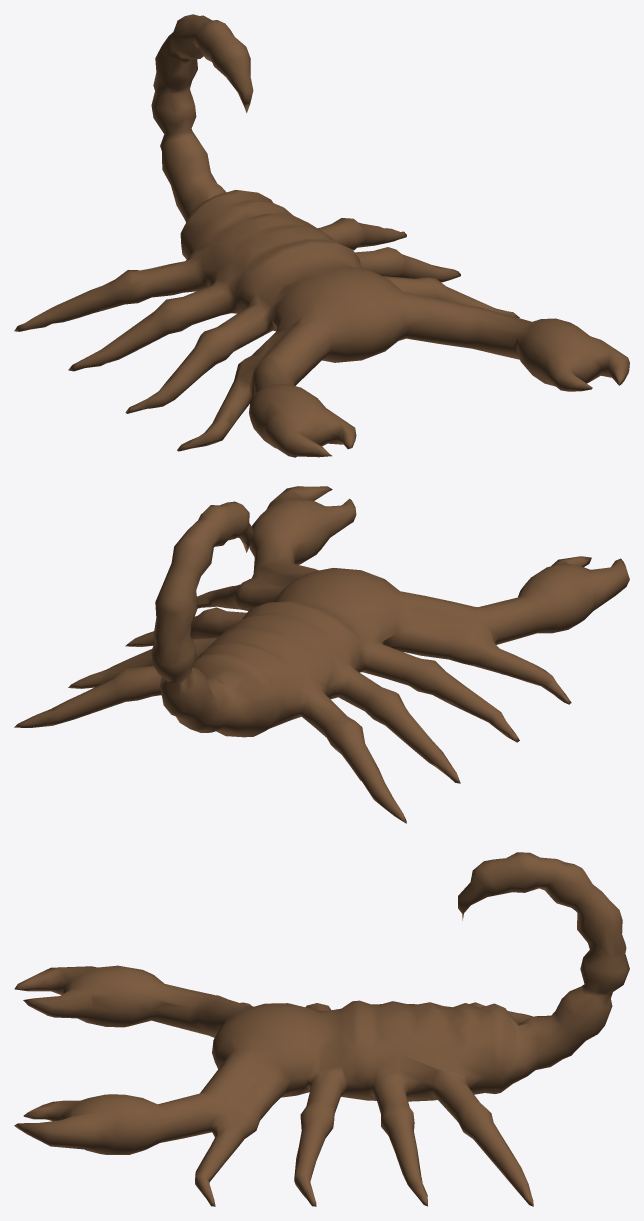
File: NEW_RECOVERY_009_LOD1.fbx
The picture shows the model from 3 angles, top to bottom: view 1: azimuth 30°, elevation 25°; view 2: azimuth 150°, elevation 25°; view 3: azimuth 270°, elevation 25°; orthographic projection. The views are drawn at different scales.
Visible parts, largest first — view 1: Scorpion_LOD1; view 2: Scorpion_LOD1; view 3: Scorpion_LOD1.
Boxes of the visible parts, <box> form: Scorpion_LOD1: <box>14,14,629,457</box>; Scorpion_LOD1: <box>14,486,629,823</box>; Scorpion_LOD1: <box>14,852,629,1206</box>.
Bounding box in the file's own units: 308 × 427 × 199.
